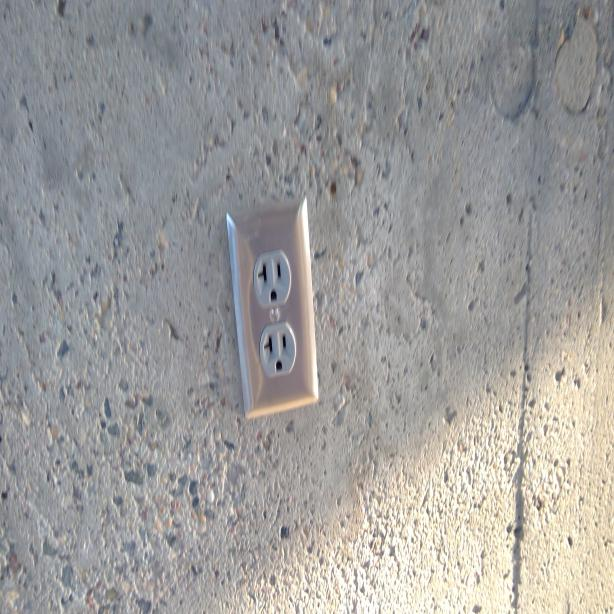typeb: (254, 253, 287, 302), (261, 326, 292, 376)
